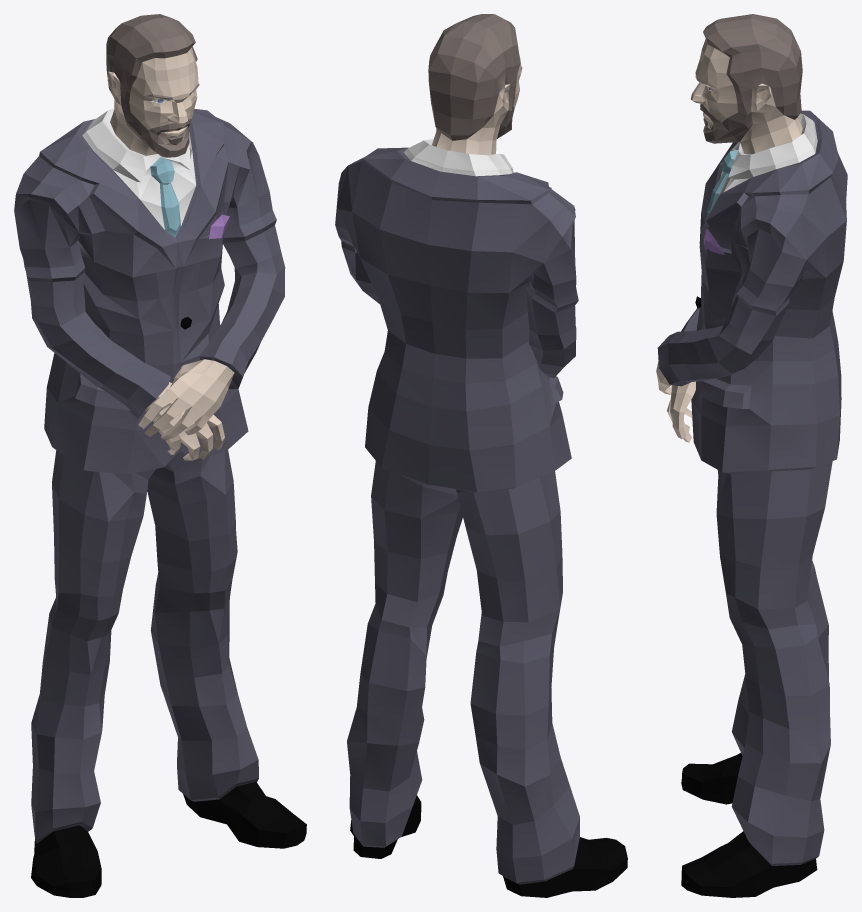
3 renders of one model, left to right at view 1: azimuth 30°, elevation 25°; view 2: azimuth 150°, elevation 25°; view 3: azimuth 270°, elevation 25°, orthographic. The views are drawn at different scales.
Visible parts, largest first — view 1: JonnyFrost.obj_FlaBlack_0, JonnyFrost.obj_Skin_0, JonnyFrost.obj_BatStraps.001_0, JonnyFrost.obj_Hair_0, JonnyFrost.obj_White.001_0, JonnyFrost.obj_Tie_0; view 2: JonnyFrost.obj_FlaBlack_0, JonnyFrost.obj_Hair_0, JonnyFrost.obj_BatStraps.001_0, JonnyFrost.obj_White.001_0, JonnyFrost.obj_Skin_0; view 3: JonnyFrost.obj_FlaBlack_0, JonnyFrost.obj_Hair_0, JonnyFrost.obj_BatStraps.001_0, JonnyFrost.obj_Skin_0, JonnyFrost.obj_White.001_0, JonnyFrost.obj_Tie_0.
Part boxes in pixels (x1,y1,x2,y2): JonnyFrost.obj_FlaBlack_0: [14, 109, 285, 843]; JonnyFrost.obj_Skin_0: [107, 47, 234, 460]; JonnyFrost.obj_BatStraps.001_0: [31, 317, 306, 897]; JonnyFrost.obj_Hair_0: [106, 14, 199, 157]; JonnyFrost.obj_White.001_0: [82, 99, 196, 229]; JonnyFrost.obj_Tie_0: [150, 157, 180, 237]; JonnyFrost.obj_FlaBlack_0: [335, 147, 579, 884]; JonnyFrost.obj_Hair_0: [428, 14, 522, 140]; JonnyFrost.obj_BatStraps.001_0: [350, 795, 627, 897]; JonnyFrost.obj_White.001_0: [404, 139, 513, 176]; JonnyFrost.obj_Skin_0: [432, 55, 521, 155]; JonnyFrost.obj_FlaBlack_0: [657, 110, 847, 865]; JonnyFrost.obj_Hair_0: [697, 14, 802, 143]; JonnyFrost.obj_BatStraps.001_0: [681, 296, 817, 897]; JonnyFrost.obj_Skin_0: [656, 39, 802, 442]; JonnyFrost.obj_White.001_0: [710, 89, 817, 195]; JonnyFrost.obj_Tie_0: [707, 150, 737, 215].
Size of the model in its own units: 65.55 by 204 by 43.24.
